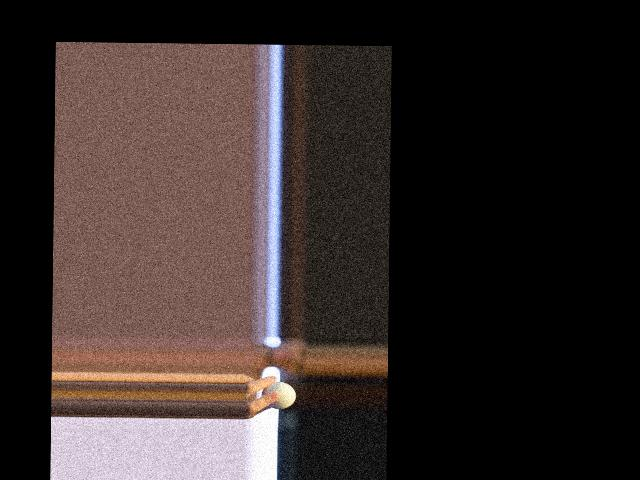egg: (261, 380, 295, 408)
